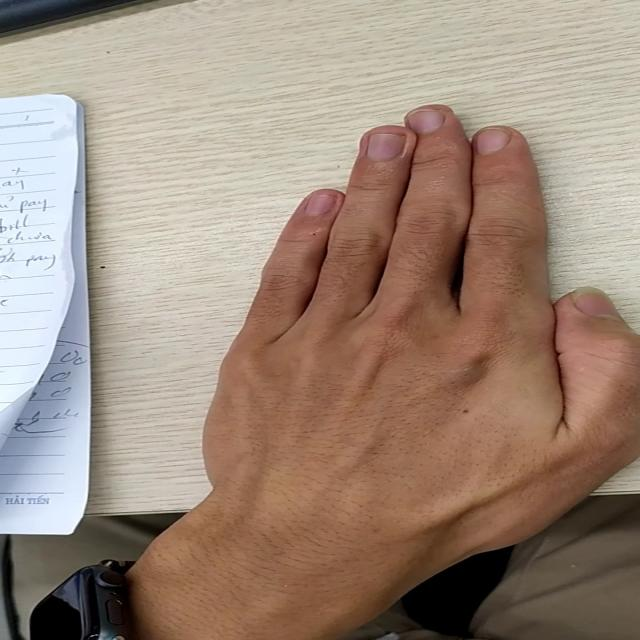hand: (247, 101, 640, 556)
